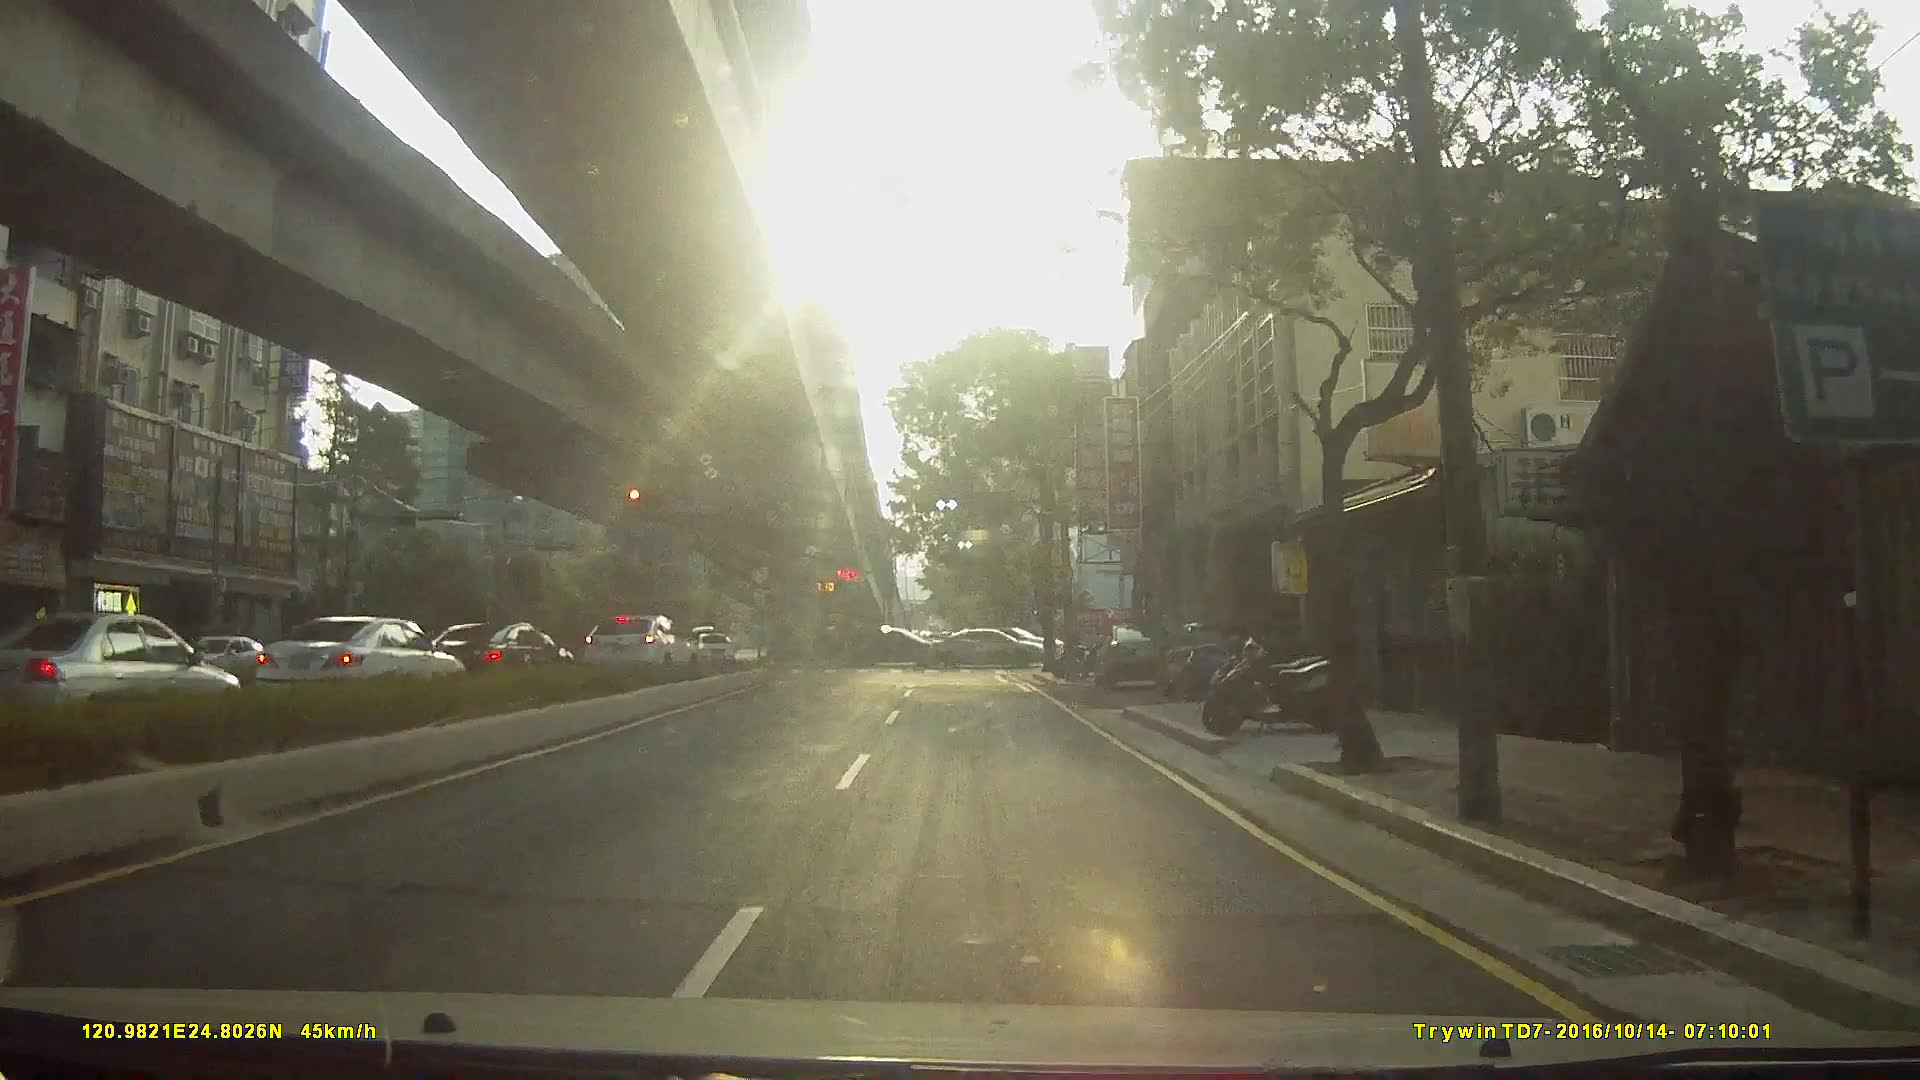vehicle: (1, 611, 245, 742), (239, 615, 458, 705), (413, 621, 570, 690), (1164, 622, 1261, 703), (578, 615, 696, 676), (1089, 622, 1178, 692), (920, 625, 1054, 666), (851, 625, 945, 669), (694, 629, 733, 665)
